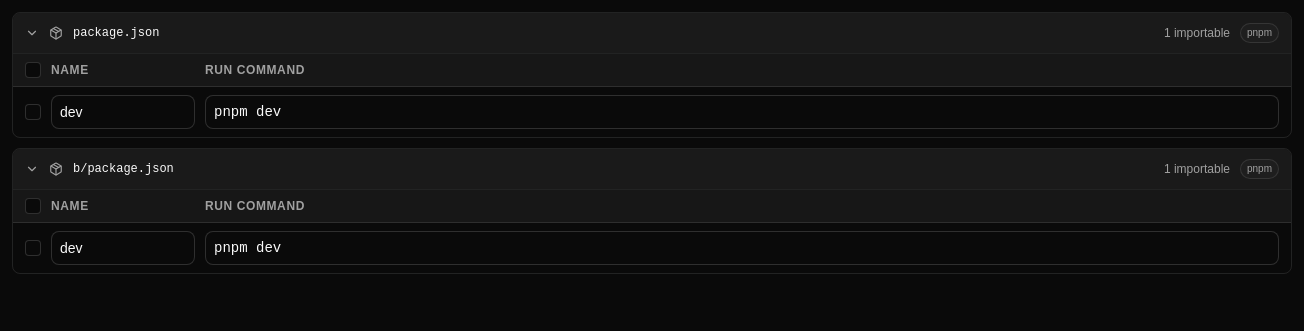
Test: <CommandImportSection> (import from package.json) › flags both rows when two selected rows share one name
The image size is (1304, 331).
Click the 1st checkbox named "Select script dev" at x=33, y=112, box [25,104,41,120]
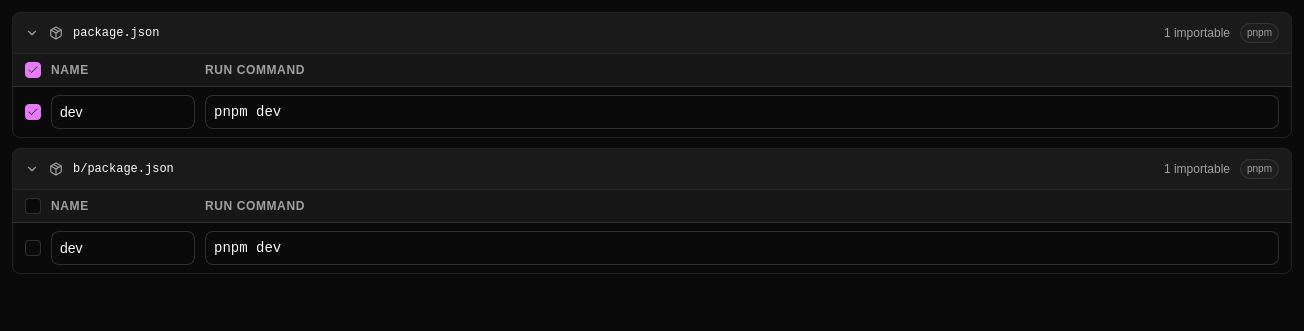
Click the 2nd checkbox named "Select script dev" at x=33, y=248, box [25,240,41,256]
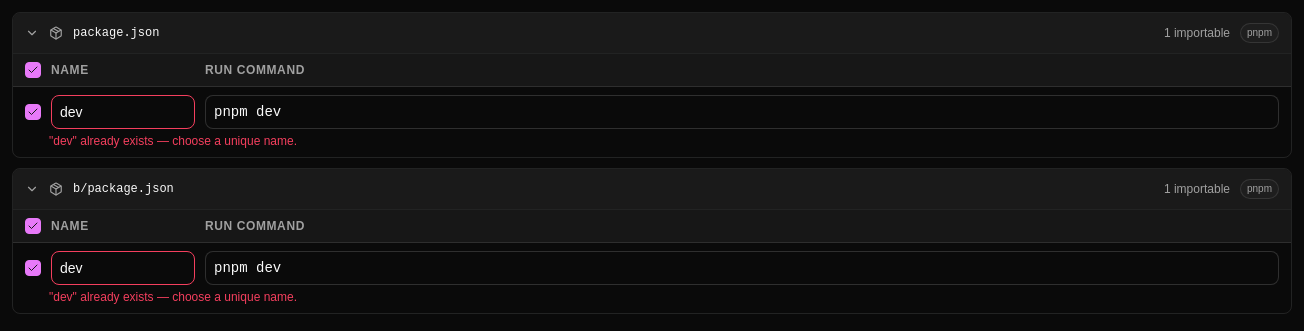
Result: the number of messages with test id "collision-error" is 2 at [49,134,297,148]; [49,290,297,304]
